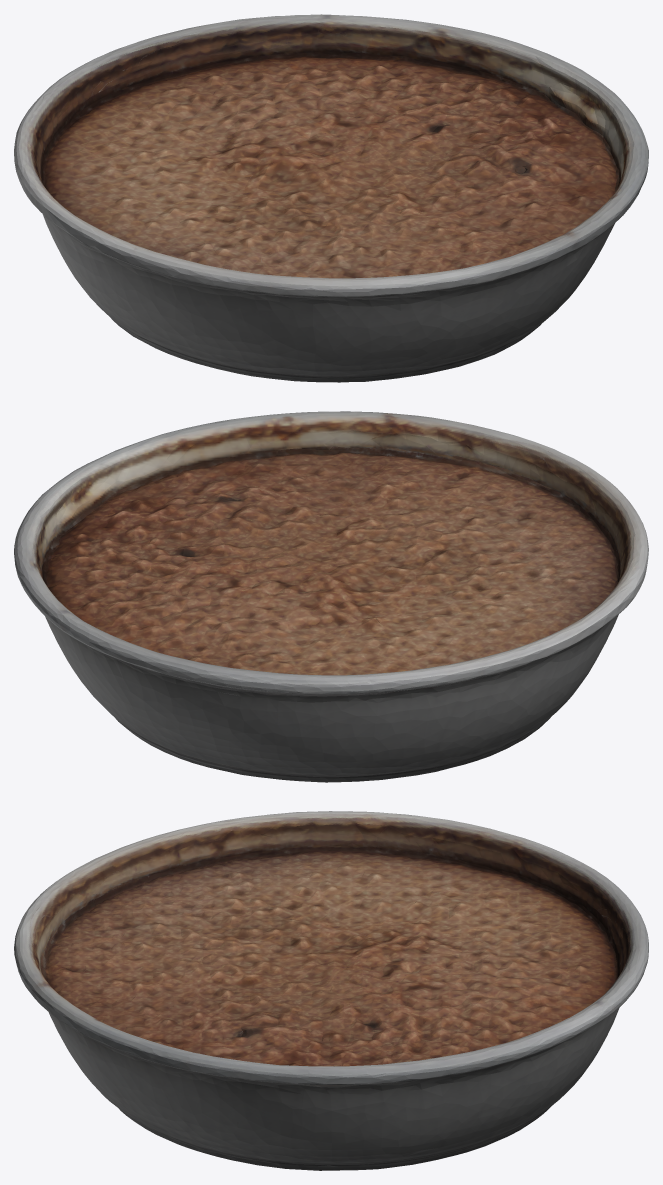
File: pate.glb
3 views of the same model, one above another, from view 1: azimuth 30°, elevation 25°; view 2: azimuth 150°, elevation 25°; view 3: azimuth 270°, elevation 25° (orthographic).
Visible parts, largest first — view 1: world; view 2: world; view 3: world.
Part boxes in pixels (x1,y1,x2,y2): world: (14,14,648,382); world: (14,411,648,782); world: (14,811,648,1170).
Size of the model in its own units: 0.9782 by 0.2373 by 0.9989.
Materials: 1 (1 with a texture image).
